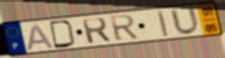A: (26, 23, 56, 52)
D: (48, 19, 77, 50)
I: (156, 9, 170, 38)
R: (80, 17, 113, 45), (108, 14, 141, 42)
U: (168, 5, 202, 37)
